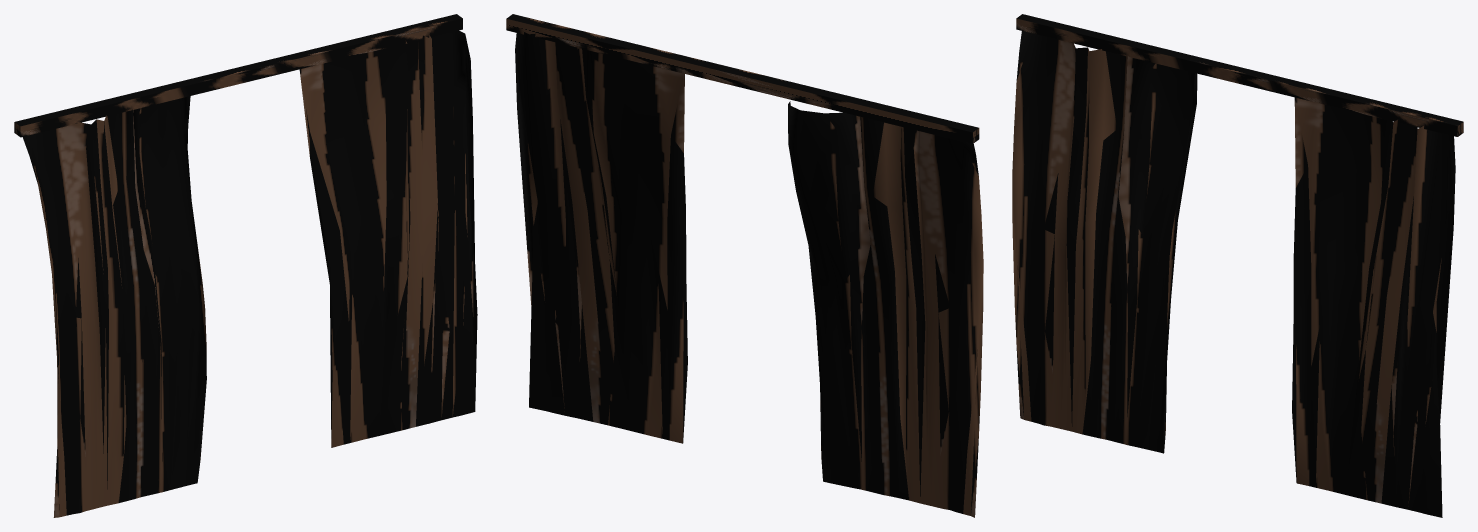
The model's file is Curtains 1.fbx.
3 renders of one model, left to right at view 1: azimuth 30°, elevation 25°; view 2: azimuth 150°, elevation 25°; view 3: azimuth 330°, elevation 25°, orthographic. The views are drawn at different scales.
Parts seen in each view (by area): view 1: Cube.002; view 2: Cube.002; view 3: Cube.002.
Boxes of the visible parts, x1,y1,x2,y2 form: Cube.002: (14,14,477,517); Cube.002: (506,14,983,517); Cube.002: (1012,14,1463,517).
Size of the model in its own units: 506 by 419 by 66.5.
